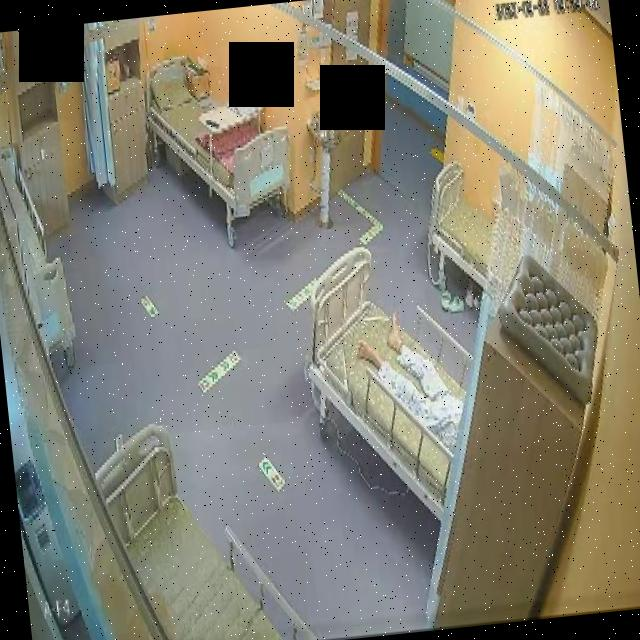bed: (294, 239, 480, 529), (88, 412, 316, 640), (136, 46, 298, 228), (423, 158, 499, 294)
lie: (354, 301, 466, 458)
patient: (353, 304, 467, 458)
